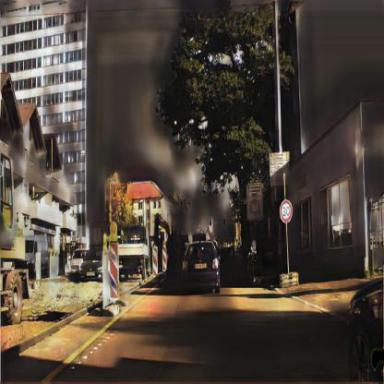Speed_limit_90: (280, 199, 293, 223)
